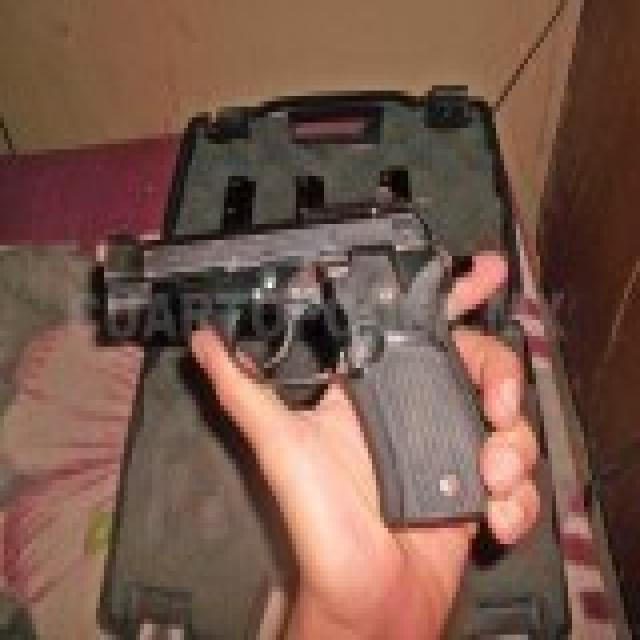Gun: (91, 201, 514, 570)
